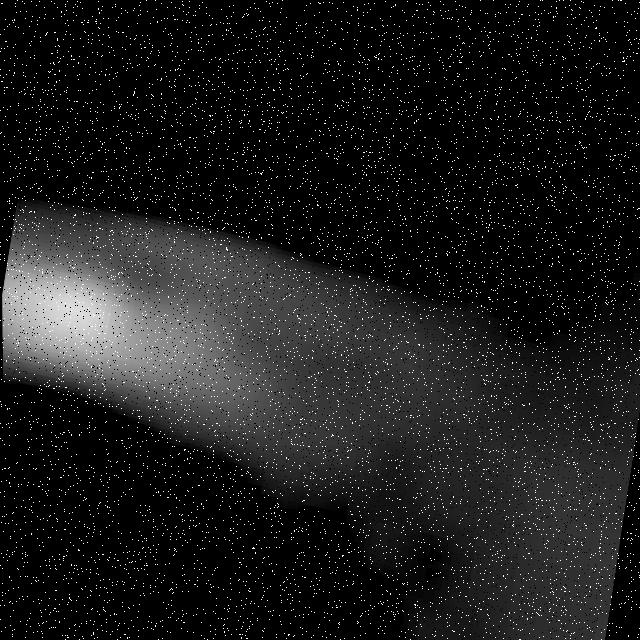person: (2, 174, 392, 516)
